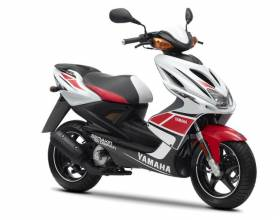motorcycle: (33, 4, 262, 212)
